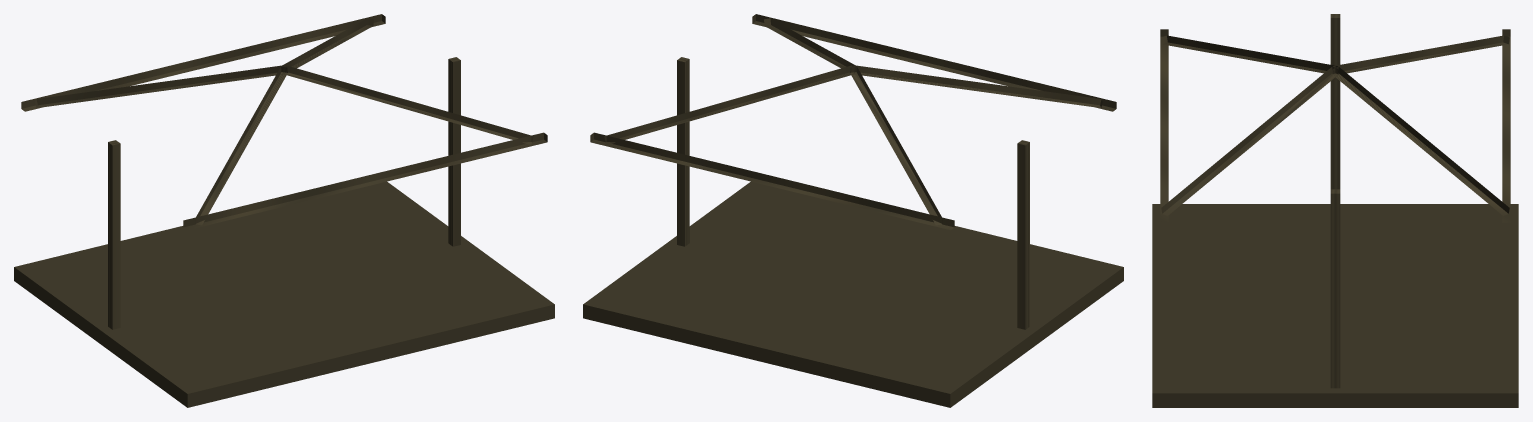
Rendered from env_tent_militia_mess_a.glb.
3 views of the same model, side by side, from view 1: azimuth 30°, elevation 25°; view 2: azimuth 150°, elevation 25°; view 3: azimuth 270°, elevation 25° (orthographic). The views are drawn at different scales.
Parts seen in each view (by area): view 1: env_tent_militia_mess_a; view 2: env_tent_militia_mess_a; view 3: env_tent_militia_mess_a.
Boxes of the visible parts, x1,y1,x2,y2 form: env_tent_militia_mess_a: [14, 14, 554, 407]; env_tent_militia_mess_a: [583, 14, 1123, 407]; env_tent_militia_mess_a: [1152, 14, 1518, 407].
Size of the model in its own units: 5.5 by 3.39 by 4.5.
Materials: 1 (1 with a texture image).
